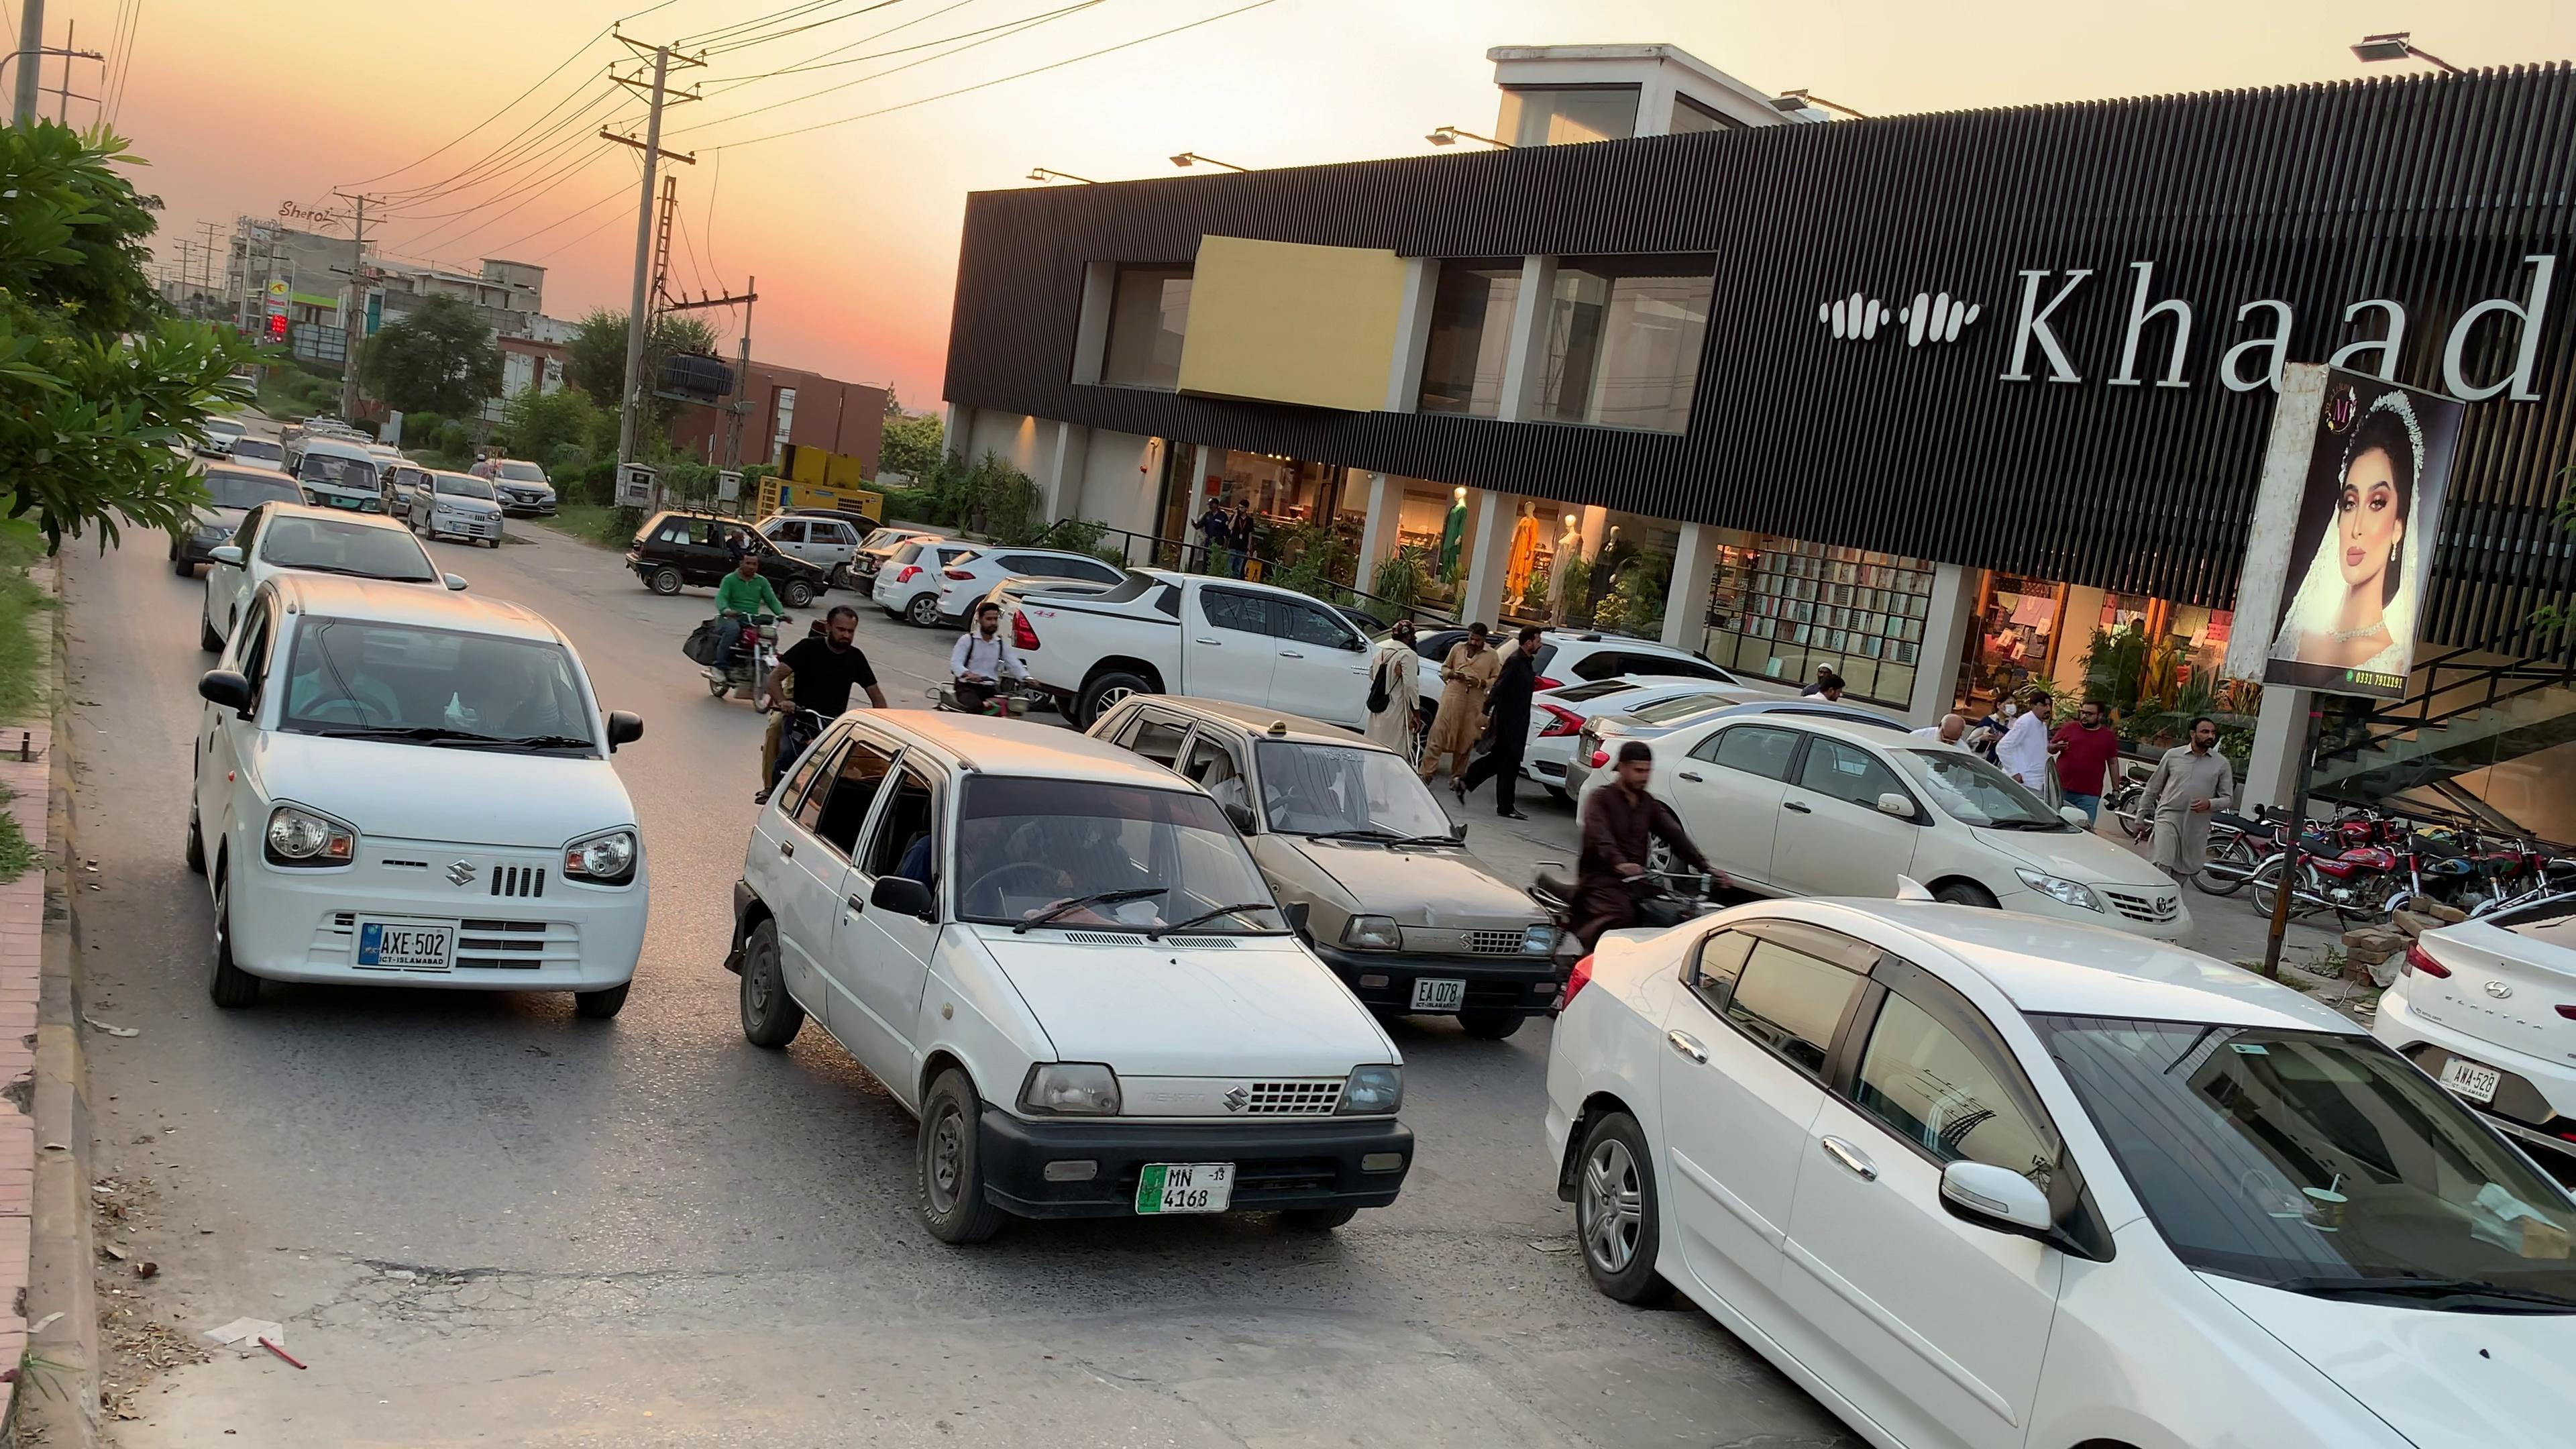windshield: (954, 771, 1295, 939), (272, 594, 602, 761)
